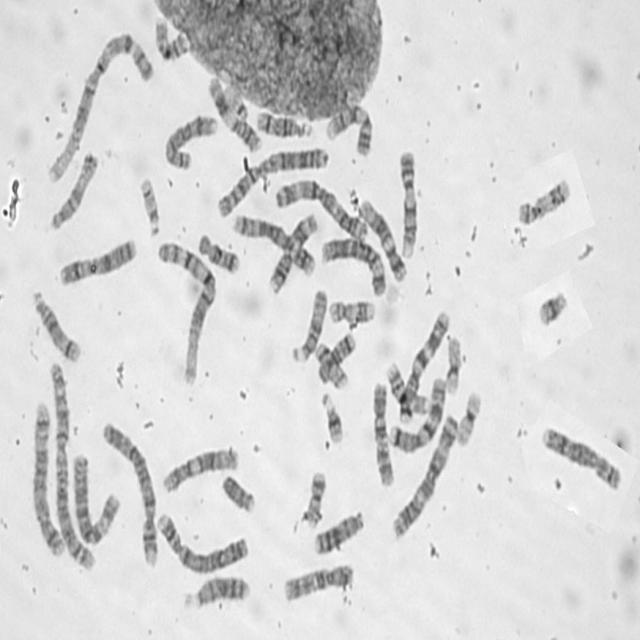A1: (42, 32, 156, 185), (158, 236, 216, 388)
A2: (40, 356, 97, 569), (215, 145, 331, 219)
A3: (389, 410, 460, 543), (272, 174, 367, 242)
B4: (100, 418, 160, 569), (153, 508, 250, 574)
B5: (30, 396, 66, 559), (231, 210, 316, 277)
C10: (281, 560, 355, 604), (370, 377, 395, 488)
C11: (205, 72, 262, 154), (267, 210, 319, 296)
C12: (357, 194, 408, 284), (160, 449, 242, 496)
C6: (69, 452, 120, 546), (319, 234, 388, 299)
C7: (397, 307, 452, 423), (387, 374, 447, 454)
C8: (538, 422, 624, 492), (162, 111, 218, 172)
C9: (323, 100, 375, 158), (396, 148, 418, 262)
D13: (182, 572, 252, 614), (311, 507, 365, 557)
D14: (30, 286, 82, 365), (253, 107, 314, 141)
D15: (47, 148, 99, 232), (289, 285, 329, 364)
E16: (384, 363, 430, 413), (150, 21, 193, 62)
E17: (514, 172, 573, 228), (327, 296, 378, 326)
E18: (314, 328, 358, 386), (195, 231, 241, 276)
F19: (442, 331, 467, 396), (453, 394, 483, 448)
F20: (312, 338, 349, 390), (302, 470, 328, 529)
G21: (319, 388, 345, 445), (535, 286, 569, 328)
G22: (138, 173, 162, 238), (223, 83, 250, 122)
X: (57, 235, 138, 288)
Y: (220, 471, 254, 515)
